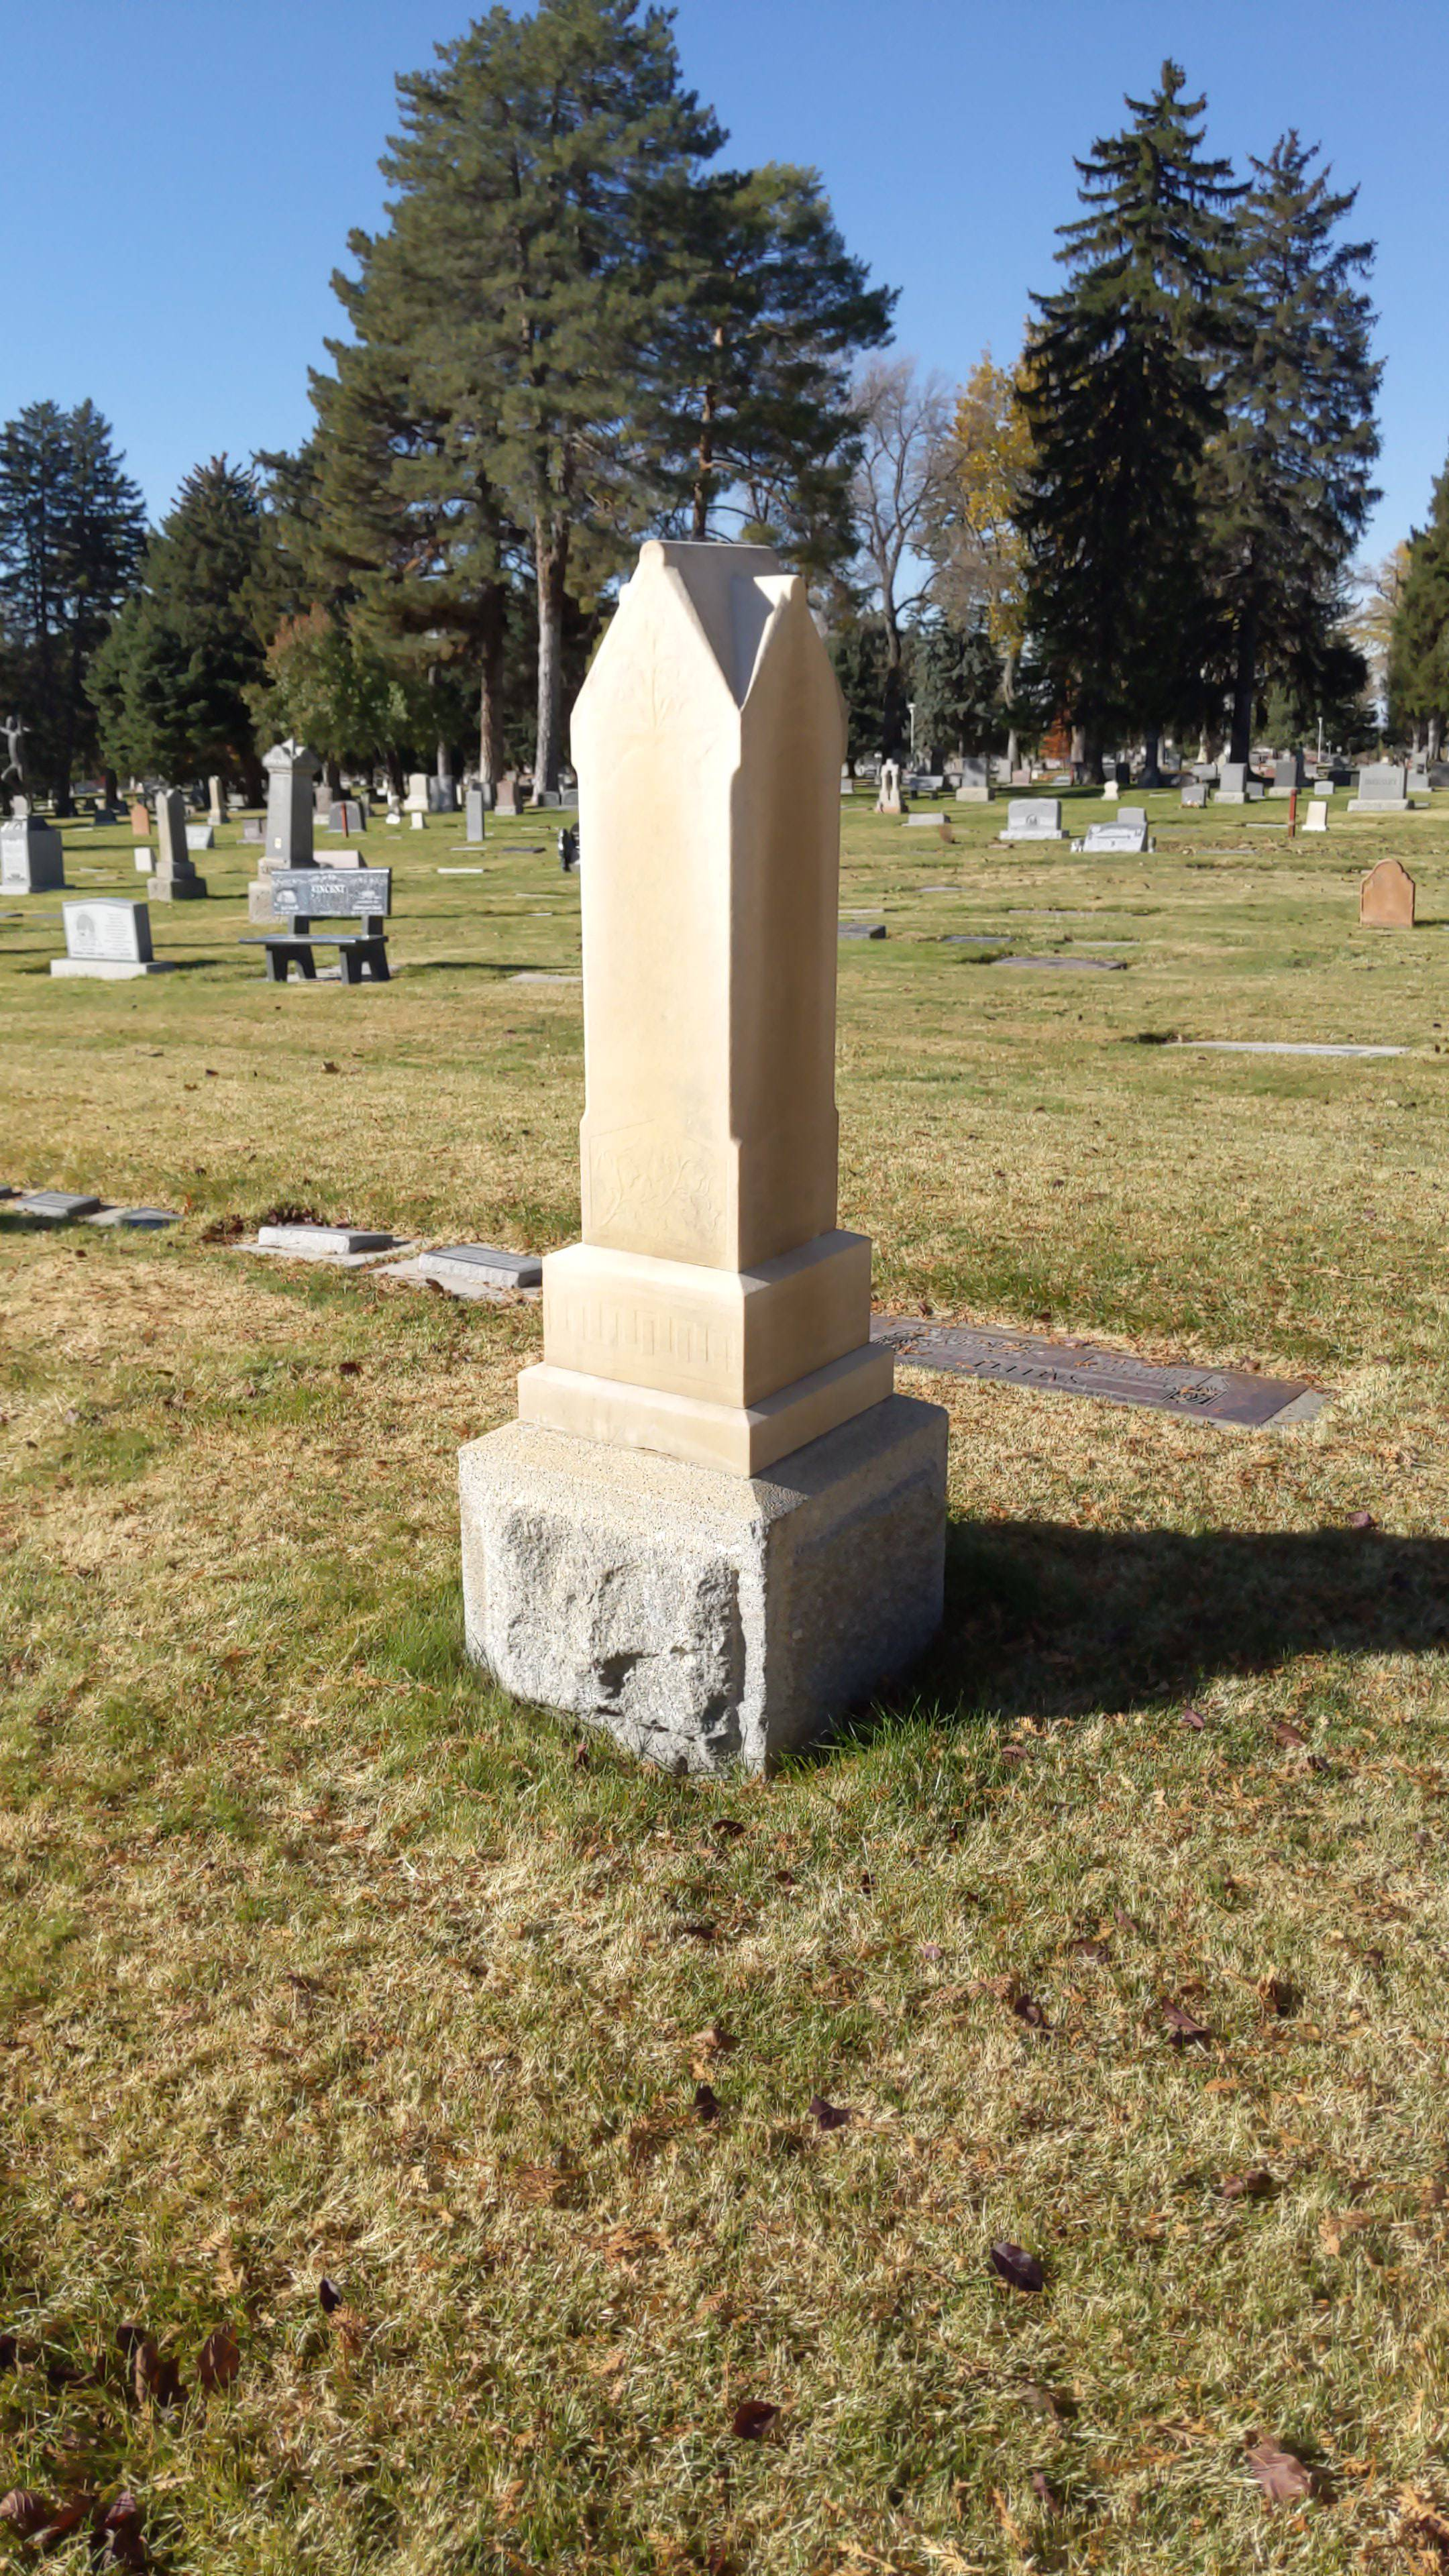obelisk: (529, 529, 893, 1483)
